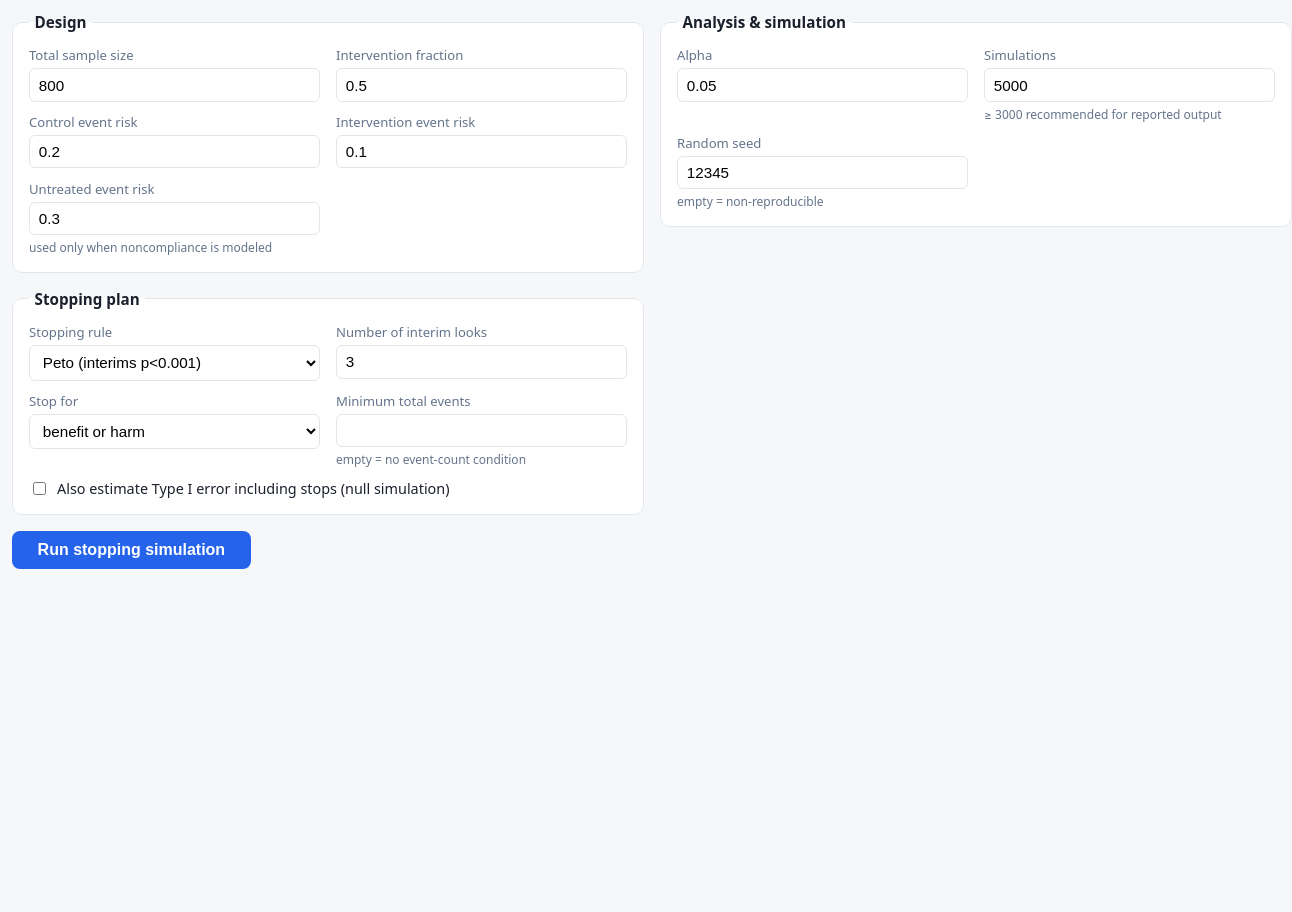
Test: StoppingRules › marks the custom thresholds input on a stopping.interim_p_thresholds 422
Select "Custom thresholds" in the dropdown labelled "Stopping rule" at coordinates (174, 363), box [29,345,320,381]
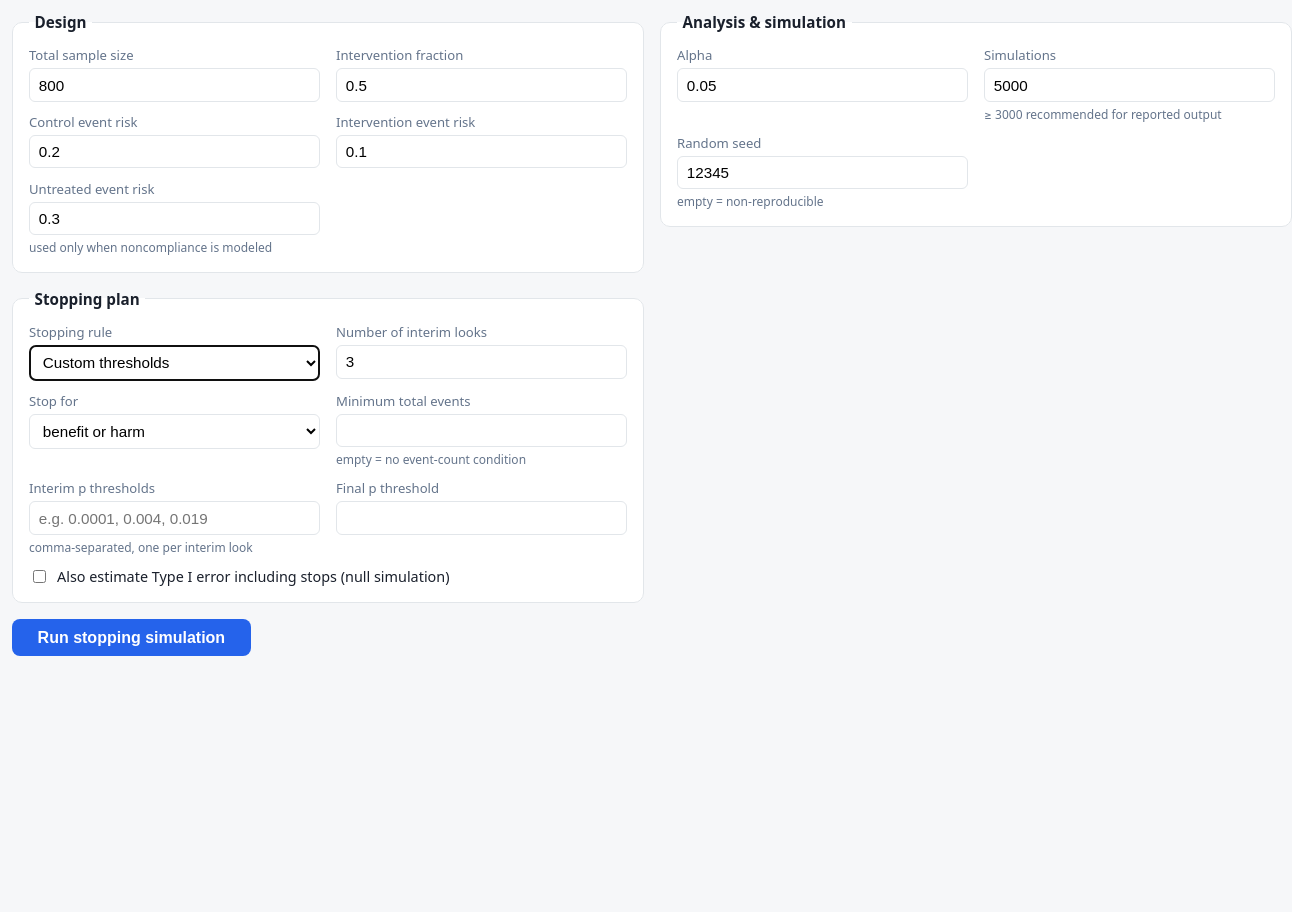
Type "0.001, 0.004" into the field labelled "Interim p thresholds" at coordinates (174, 518), box [29,501,320,535]
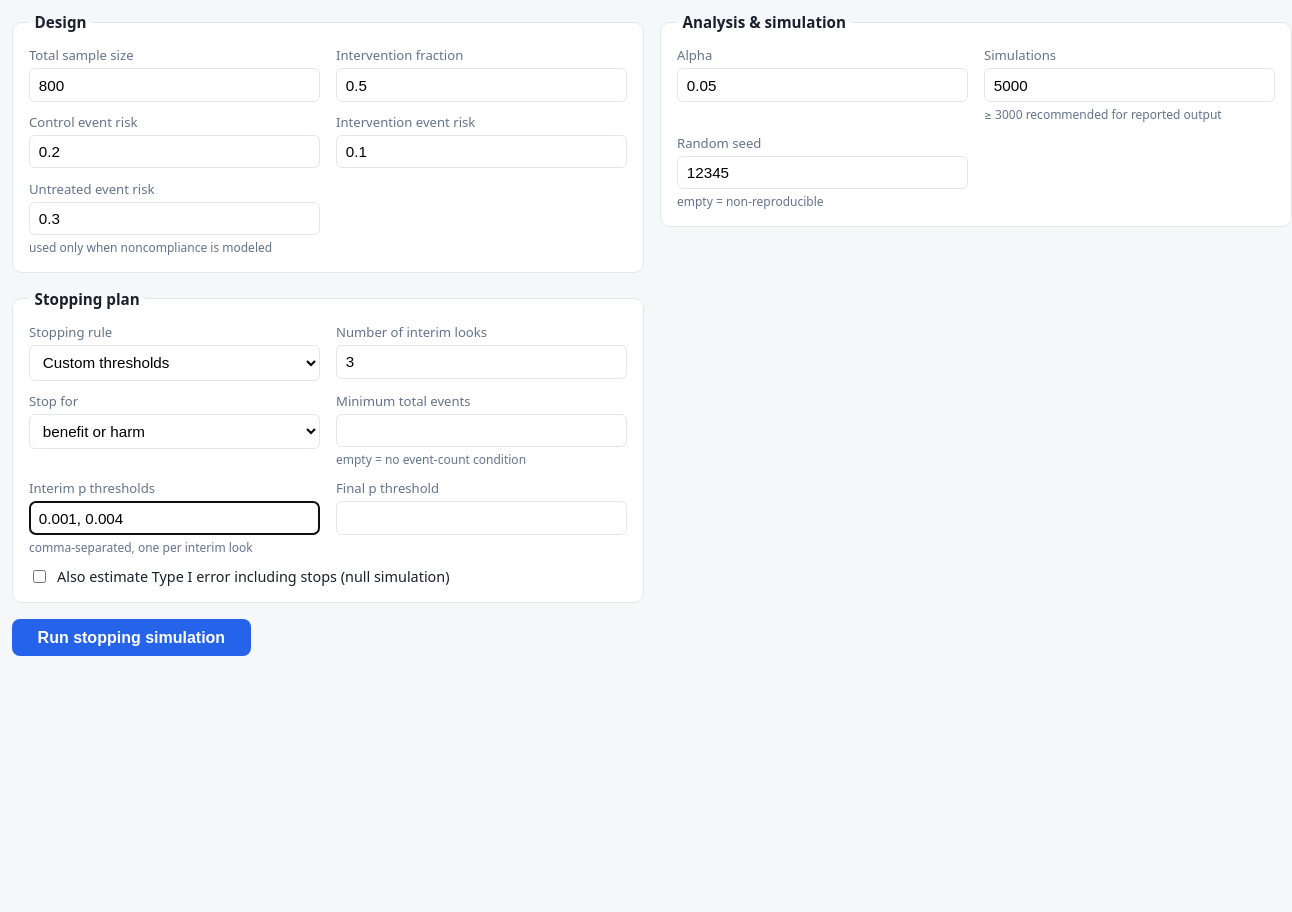
Click the button with test id "run-button" at coordinates (131, 638), box [12,619,251,656]
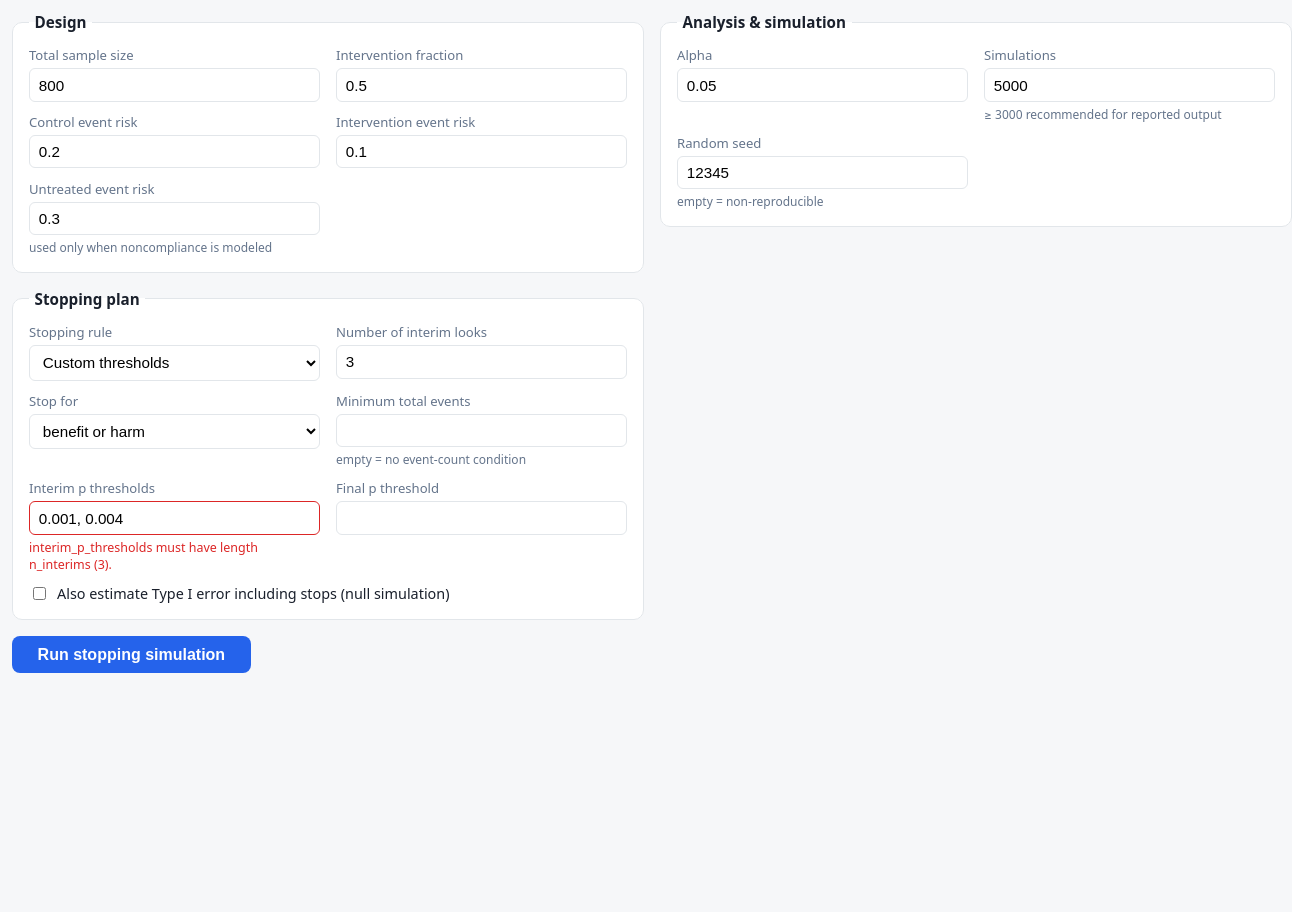
Expected: the message shows "must have length n_interims", [29,539,258,573]
